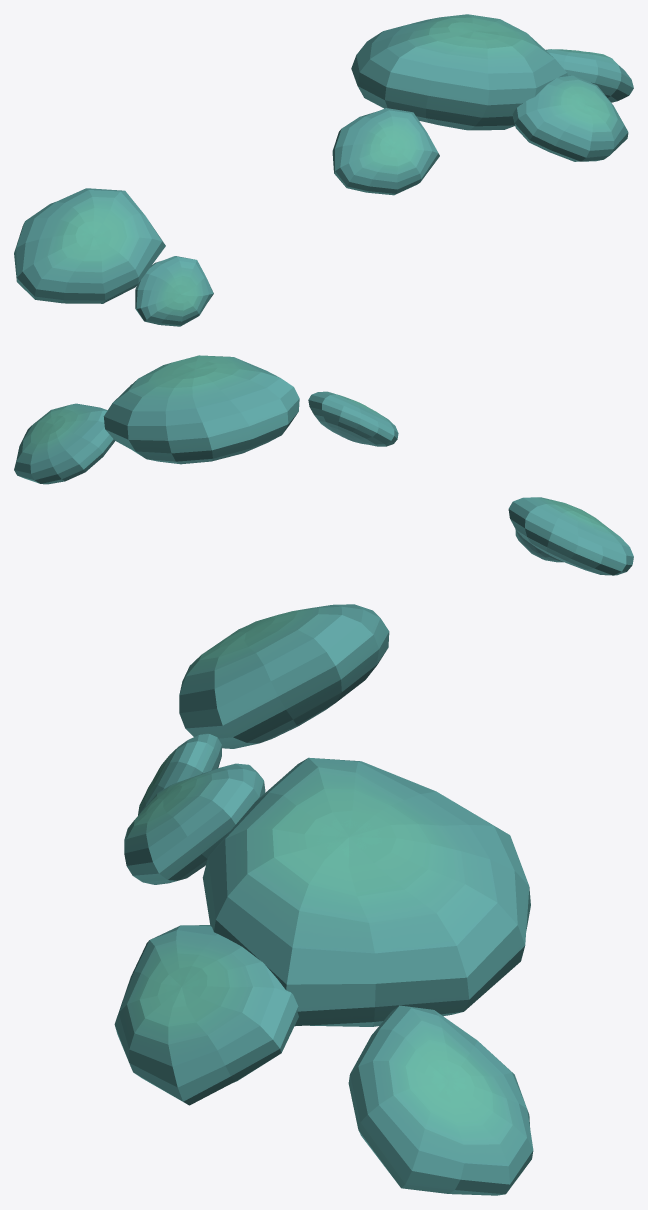
File: moss1.fbx
3 renders of one model, top to bottom at view 1: azimuth 30°, elevation 25°; view 2: azimuth 150°, elevation 25°; view 3: azimuth 270°, elevation 25°, orthographic. The views are drawn at different scales.
Parts seen in each view (by area): view 1: moss1, moss4, moss3, moss2, moss6, moss5; view 2: moss1, moss4, moss5, moss3, moss6; view 3: moss1, moss5, moss2, moss4, moss3, moss6.
Boxes of the visible parts, x1,y1,x2,y2 form: moss1: [351, 14, 567, 130]; moss4: [14, 188, 165, 303]; moss3: [332, 108, 439, 195]; moss2: [512, 75, 628, 161]; moss6: [135, 256, 213, 326]; moss5: [546, 49, 633, 102]; moss1: [103, 355, 299, 464]; moss4: [508, 497, 633, 575]; moss5: [14, 403, 114, 484]; moss3: [308, 391, 398, 446]; moss6: [515, 529, 563, 562]; moss1: [202, 757, 530, 1026]; moss5: [348, 1005, 533, 1195]; moss2: [114, 925, 298, 1105]; moss4: [179, 604, 389, 748]; moss3: [124, 763, 265, 884]; moss6: [138, 733, 221, 815].
Size of the model in its own units: 6.26 by 1.63 by 1.99.
